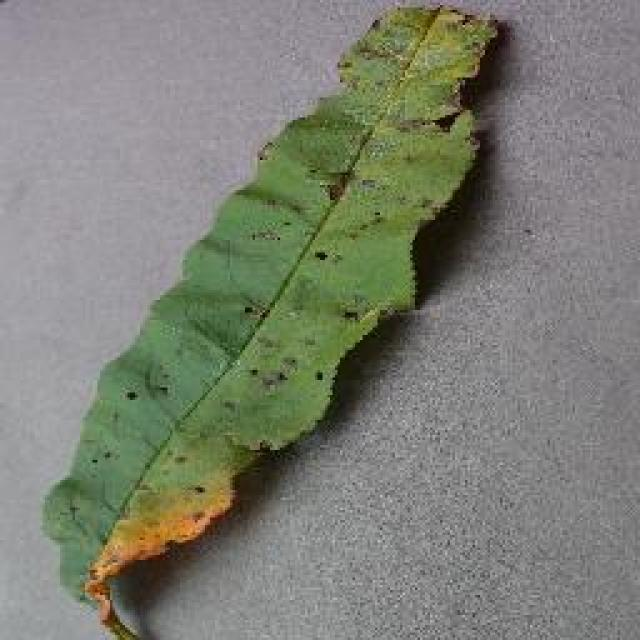Peach_Bacterial_Spot: (222, 15, 378, 548)
